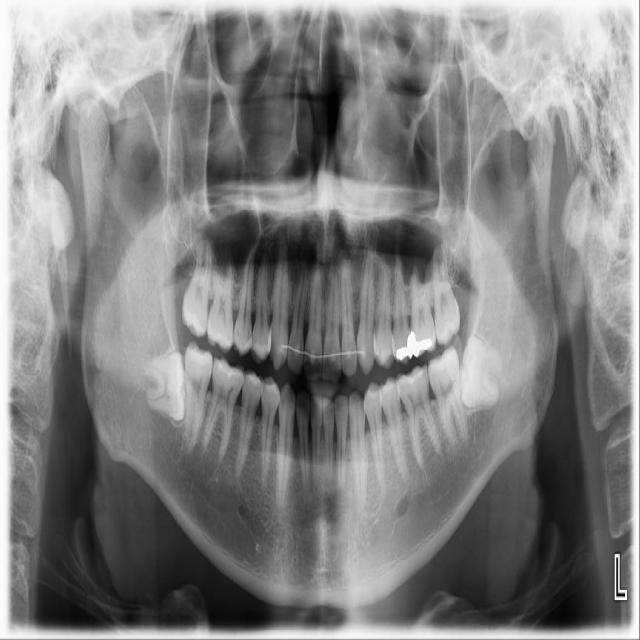Filling: (411, 331, 432, 356), (395, 330, 412, 360)
impacted tooth: (137, 351, 184, 422), (459, 334, 504, 408)
